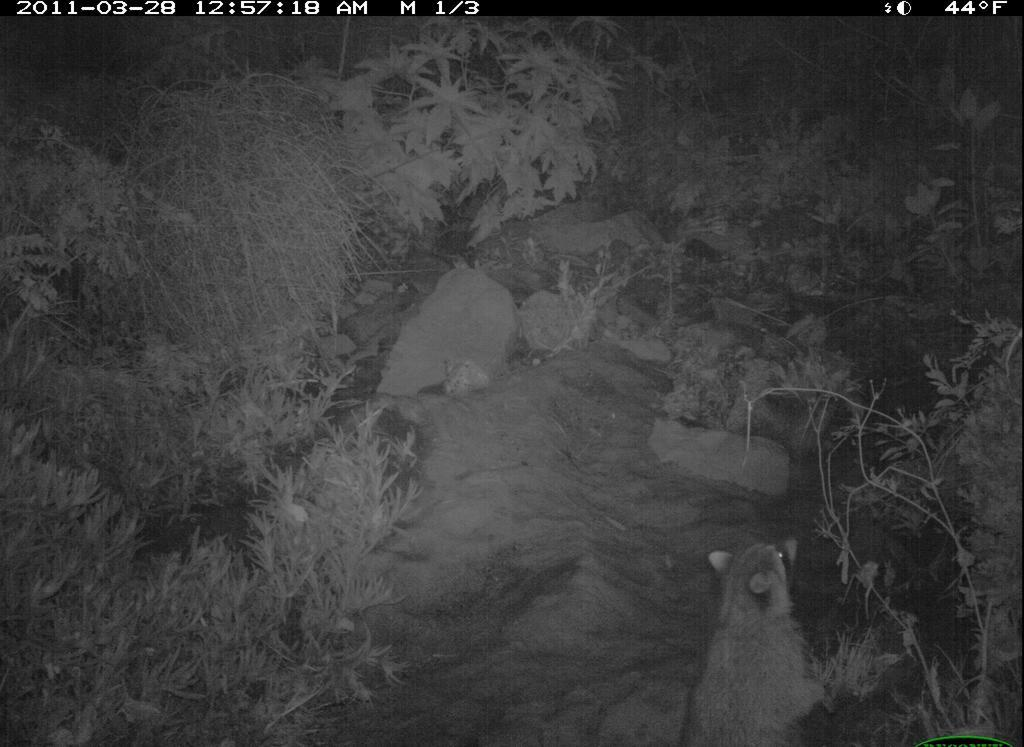raccoon: (651, 505, 859, 744)
